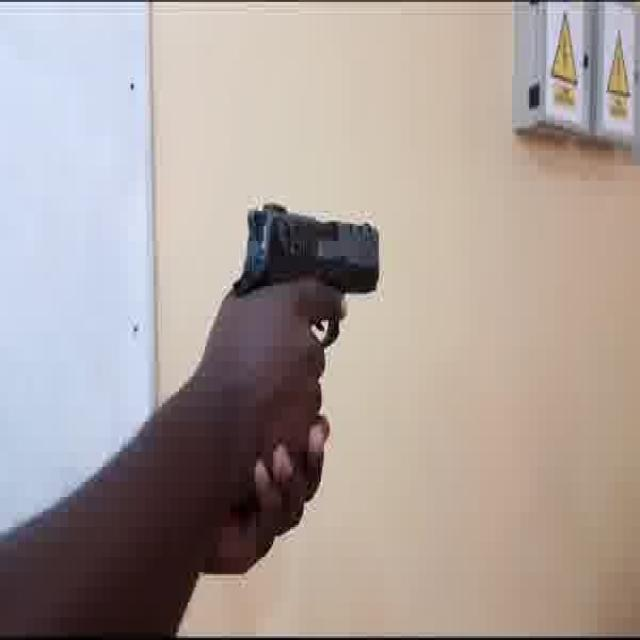weapon: (221, 196, 381, 356)
